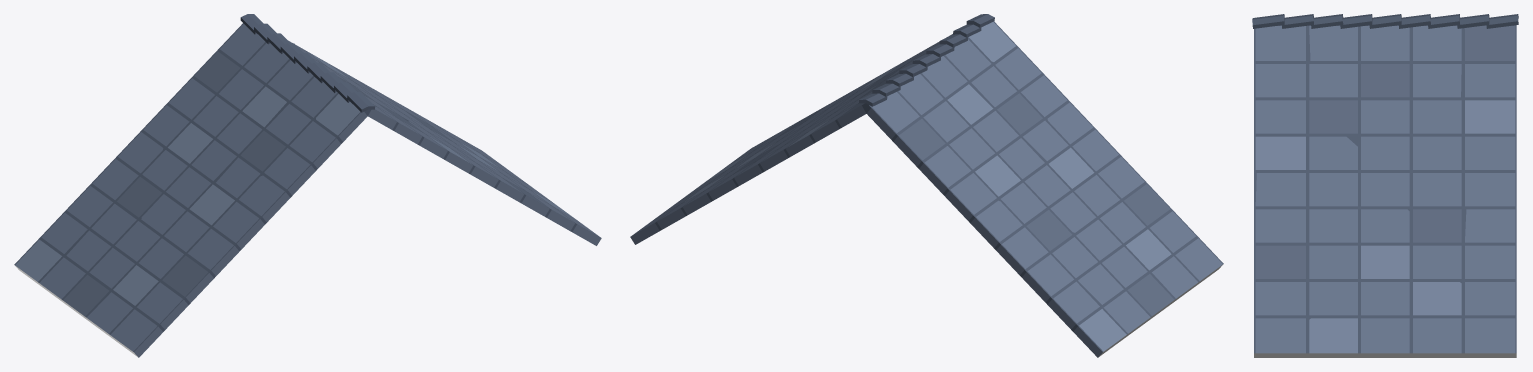
The model's file is Roof1_C7_01.fbx.
3 views of the same model, side by side, from view 1: azimuth 30°, elevation 25°; view 2: azimuth 150°, elevation 25°; view 3: azimuth 270°, elevation 25° (orthographic). The views are drawn at different scales.
Visible parts, largest first — view 1: Roof1_C7_01; view 2: Roof1_C7_01; view 3: Roof1_C7_01.
Part boxes in pixels (bbox=[...]): Roof1_C7_01: bbox=[14, 14, 601, 357]; Roof1_C7_01: bbox=[630, 14, 1223, 357]; Roof1_C7_01: bbox=[1252, 14, 1518, 357].
Bounding box in the file's own units: 565 × 231 × 254.
